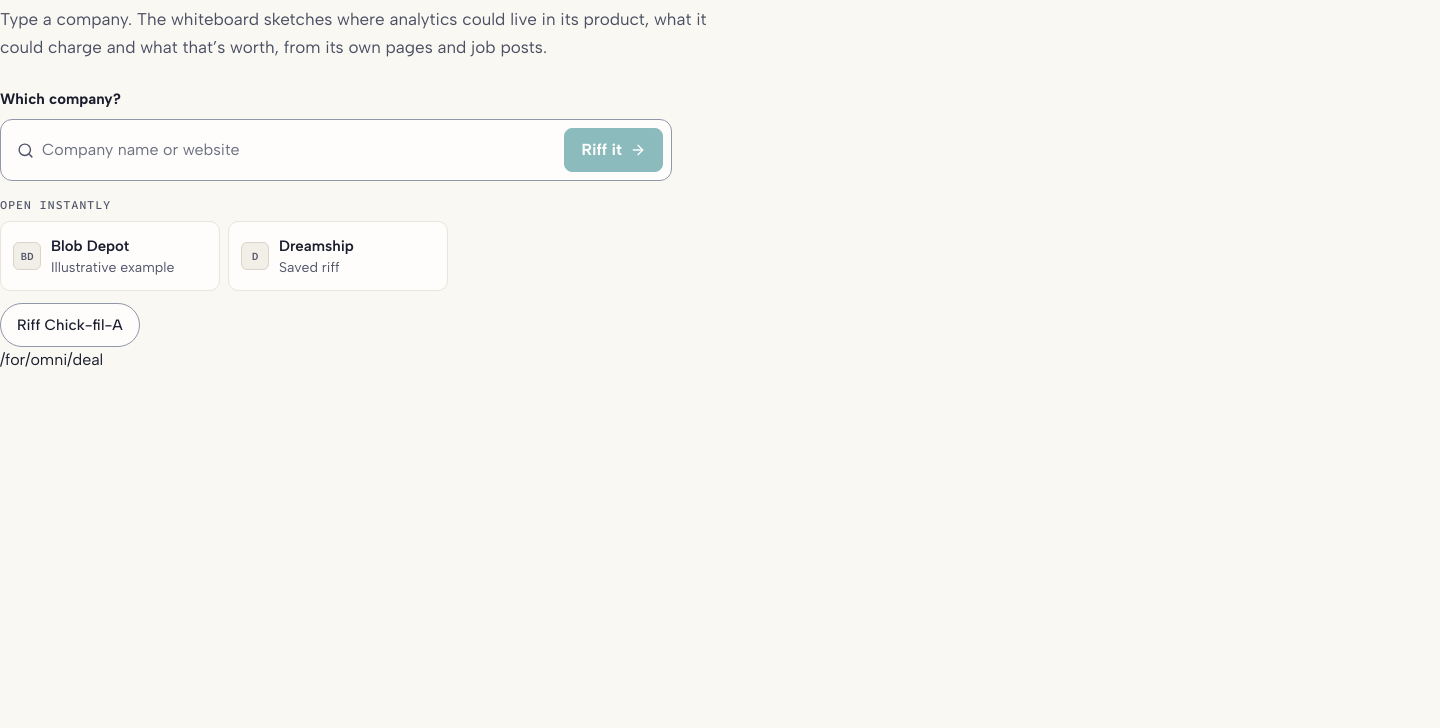
Test: the whiteboard › leads with the internal play when embedded doesn't fit, and offers the carried account as a riff
This screenshot has width=1440, height=728.
Click the button "Riff Chick-fil-A" at (70, 325), box [0, 303, 140, 347]
(page scrolled)
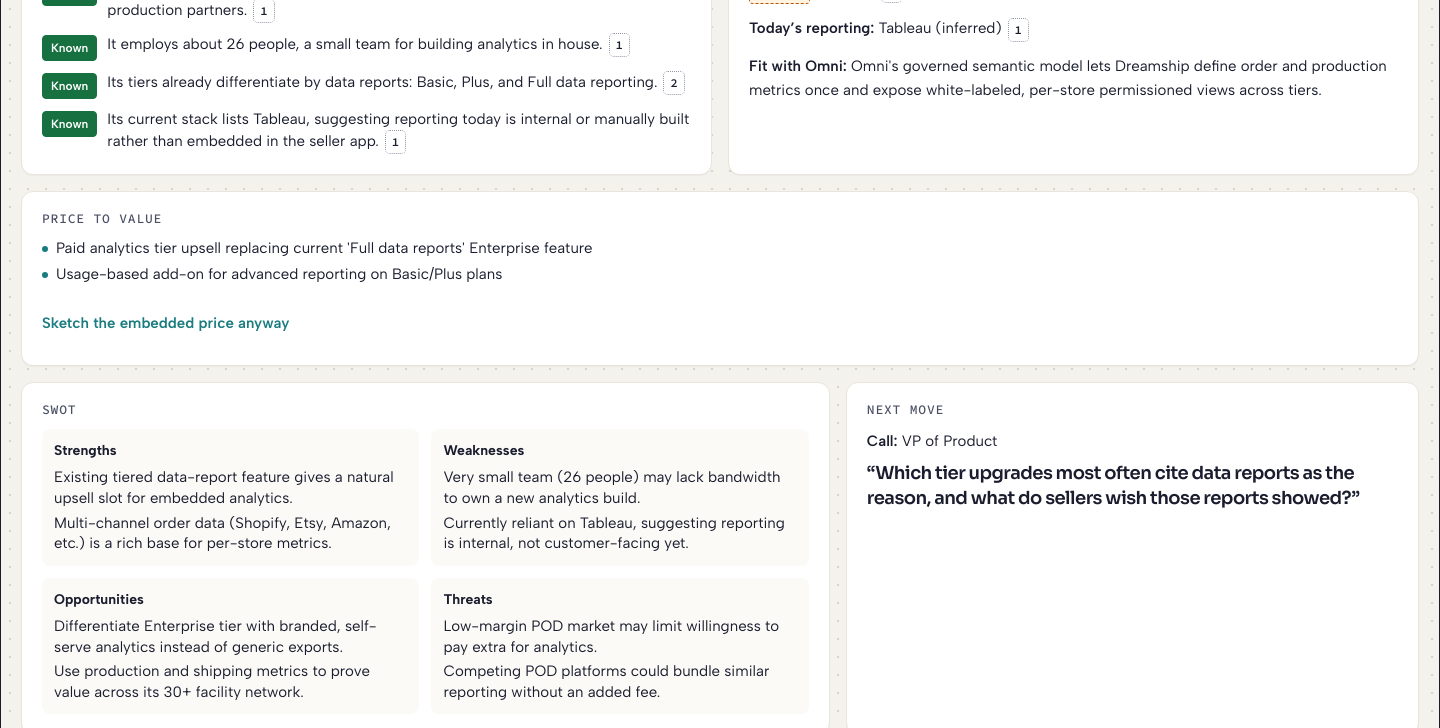
Expected: the text "Their new tier, a year" is not shown
Click the button "Sketch the embedded price anyway" at (166, 323), box [42, 301, 289, 345]
(page scrolled)
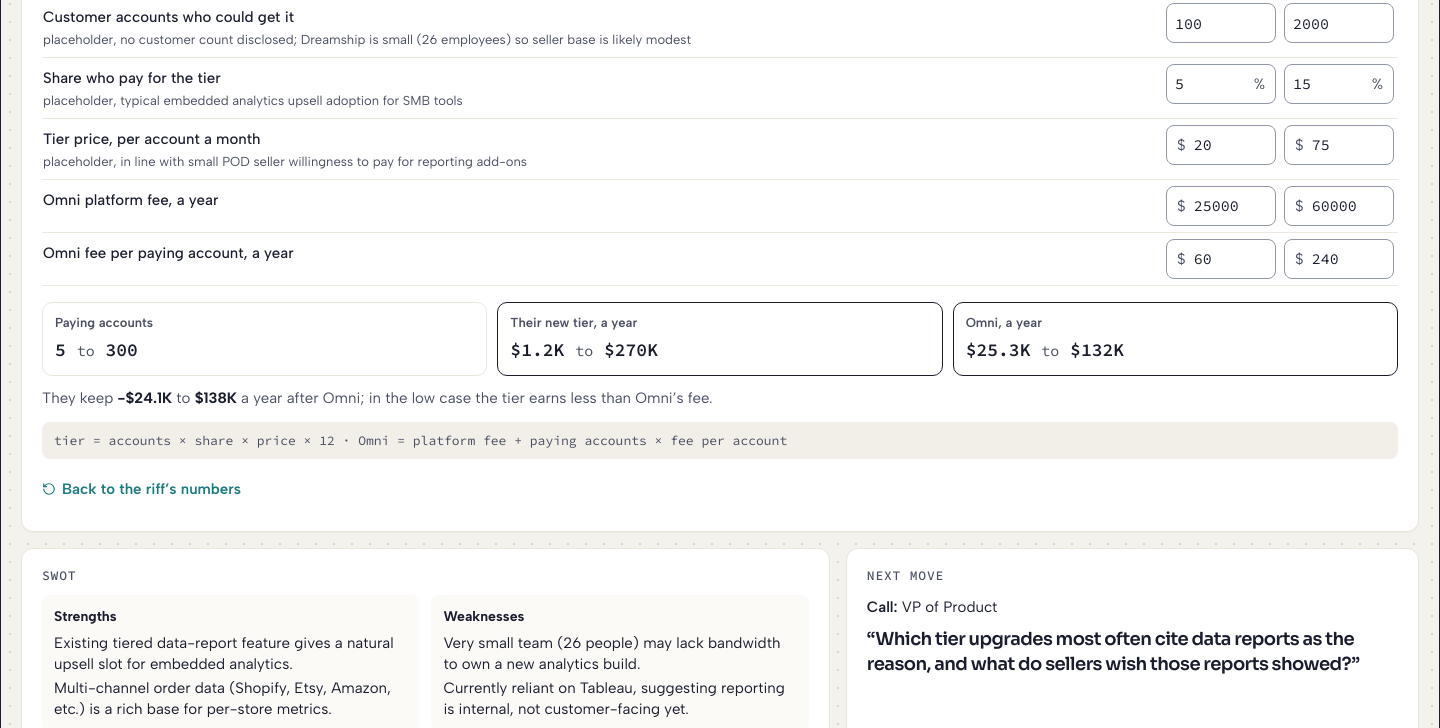
Now the text "Their new tier, a year" is shown, box [510, 315, 637, 330]
